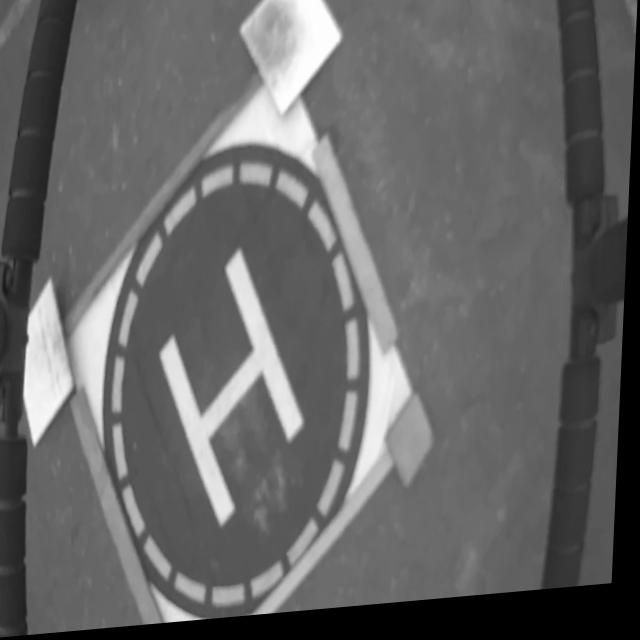Helipad: (163, 253, 309, 534)
